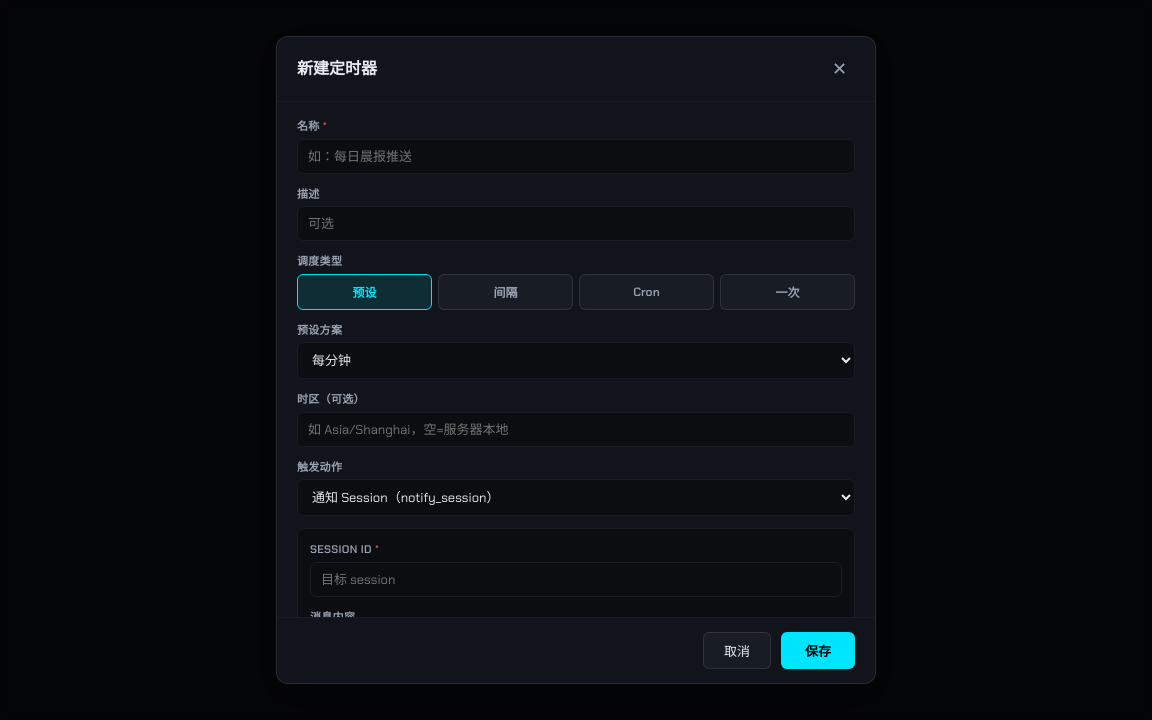
it: CronForm — 调度类型切换 › 切到 once 显示 datetime-local
Click the button with class "seg-btn" showing "一次": (788, 292) 720,274 -> 855,310
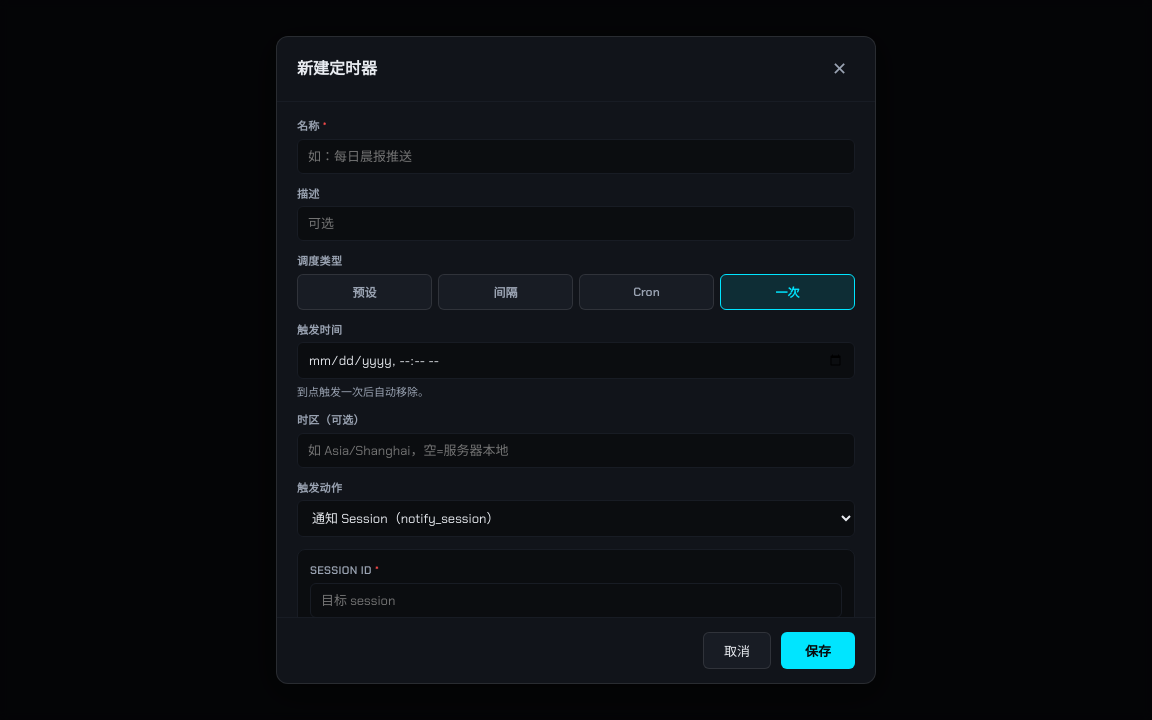
Check: the field with id "cron-once" is shown, box 297,342 -> 855,379
